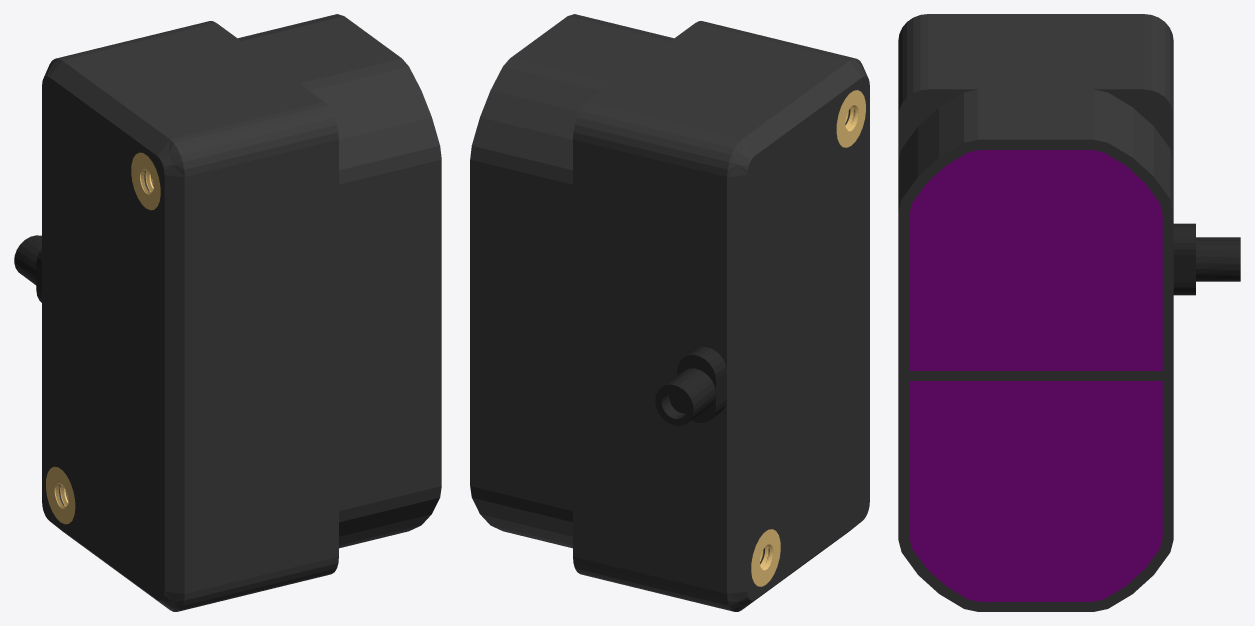
Rendered from tfmini_plus.glb.
The picture shows the model from 3 angles, left to right: view 1: azimuth 30°, elevation 25°; view 2: azimuth 150°, elevation 25°; view 3: azimuth 270°, elevation 25°; orthographic projection.
Visible parts, largest first — view 1: rgb_0.04_0.04_0.04, rgb_0.90_0.60_0.20, rgb_0.02_0.02_0.02; view 2: rgb_0.04_0.04_0.04, rgb_0.02_0.02_0.02, rgb_0.90_0.60_0.20; view 3: rgb_0.22_0.00_0.25, rgb_0.04_0.04_0.04, rgb_0.02_0.02_0.02.
Boxes of the visible parts, x1,y1,x2,y2 form: rgb_0.04_0.04_0.04: [42, 14, 441, 611]; rgb_0.90_0.60_0.20: [46, 152, 160, 524]; rgb_0.02_0.02_0.02: [14, 235, 41, 302]; rgb_0.04_0.04_0.04: [470, 14, 869, 611]; rgb_0.02_0.02_0.02: [655, 347, 726, 425]; rgb_0.90_0.60_0.20: [751, 90, 865, 586]; rgb_0.22_0.00_0.25: [909, 150, 1162, 601]; rgb_0.04_0.04_0.04: [898, 14, 1173, 611]; rgb_0.02_0.02_0.02: [1173, 223, 1240, 295].
Size of the model in its own units: 0.021 by 0.035 by 0.023.
